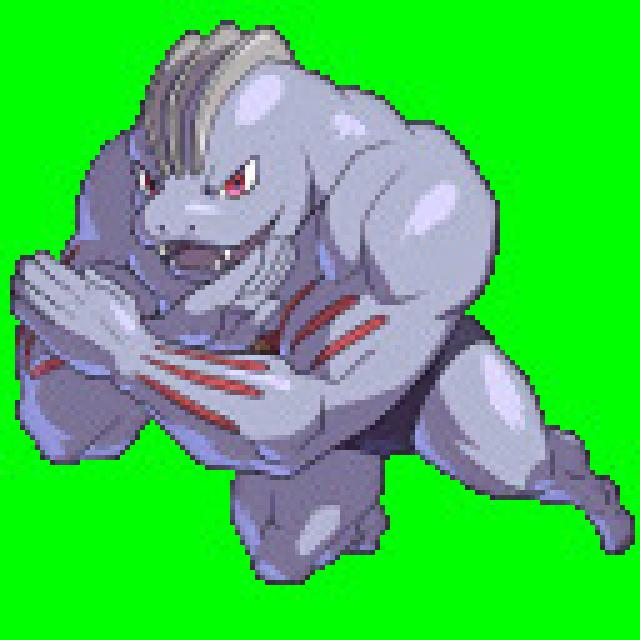Machoke: (0, 20, 556, 573)
